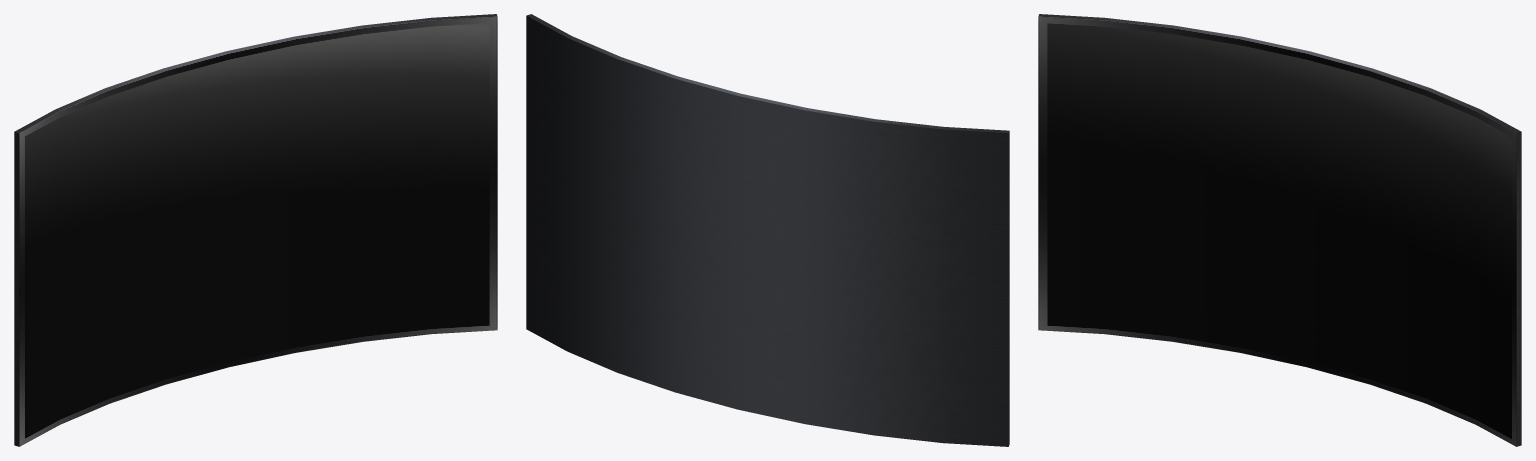
File: LGSeochoB1TVCurved.fbx
3 renders of one model, left to right at view 1: azimuth 30°, elevation 25°; view 2: azimuth 150°, elevation 25°; view 3: azimuth 330°, elevation 25°, orthographic.
Parts seen in each view (by area): view 1: LGSeochoB1TVScreen, LGSeochoTVFrame; view 2: LGSeochoTVFrame; view 3: LGSeochoB1TVScreen, LGSeochoTVFrame.
Part boxes in pixels (x1,y1,x2,y2): LGSeochoB1TVScreen: (19,16,497,446); LGSeochoTVFrame: (14,14,497,446); LGSeochoTVFrame: (526,14,1009,446); LGSeochoB1TVScreen: (1038,16,1516,446); LGSeochoTVFrame: (1038,14,1521,446).
Bounding box in the file's own units: 269 × 167 × 31.25.
2 materials, 2 textured.
